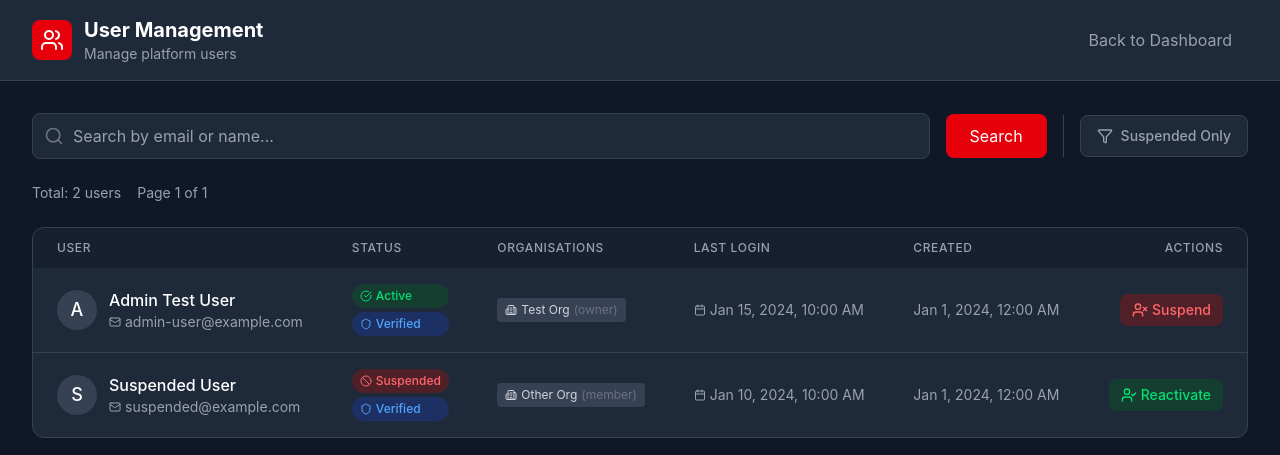
Test: AdminUsers › filter functionality › should toggle suspended only filter when clicked
Check: the text "Admin Test User" is shown, box [109,290,235,310]
Note: Click the filter button
What coordinates should you click on to do the following:
click the button "Suspended Only"
I would click on:
 (1164, 136)
Its box is [1080,115,1248,157].
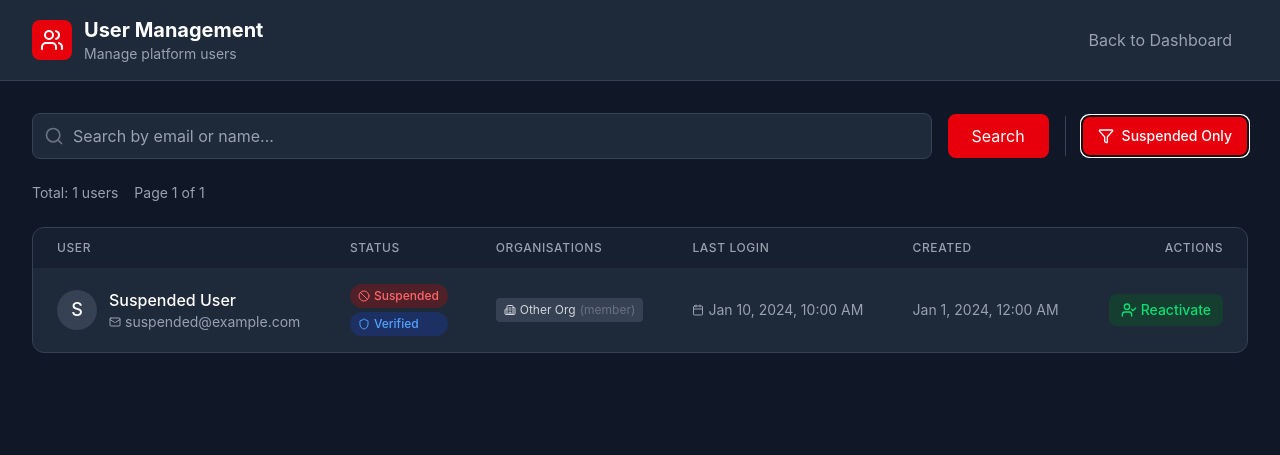
Check: the text "Suspended User" is shown, box [109,290,236,310]
Check: the text "Admin Test User" is gone
